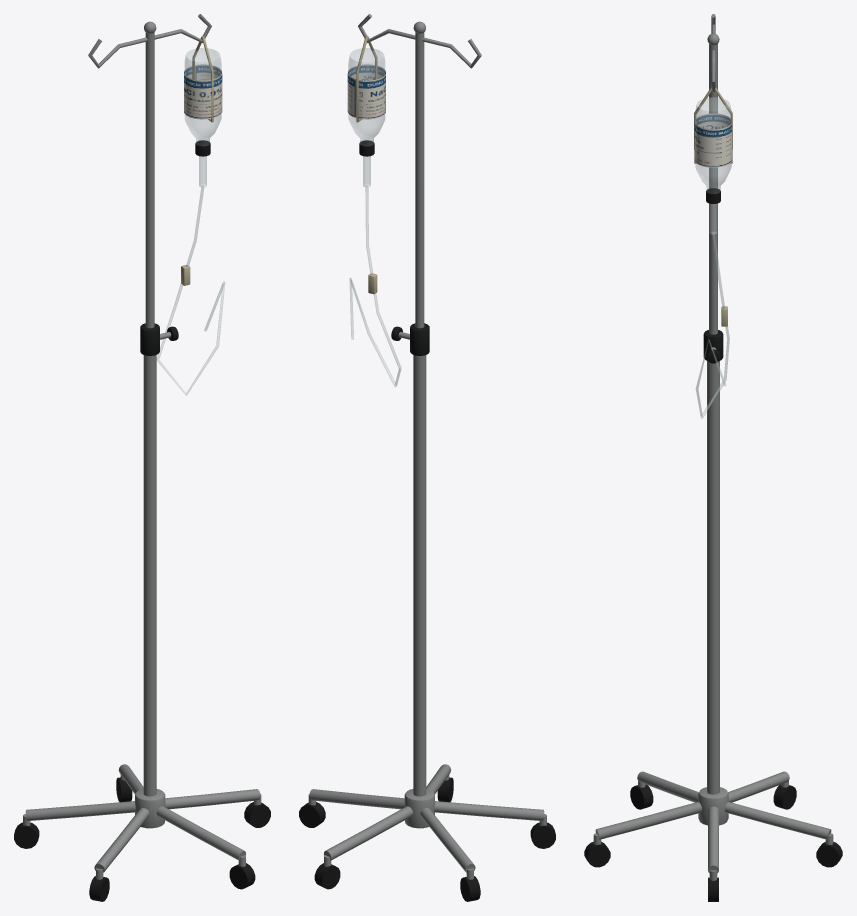
Rendered from CTCC_PROP_IVStand.fbx.
The picture shows the model from 3 angles, left to right: view 1: azimuth 30°, elevation 25°; view 2: azimuth 150°, elevation 25°; view 3: azimuth 270°, elevation 25°; orthographic projection.
Visible parts, largest first — view 1: CTCC_PROP_IVStand_LOD0; view 2: CTCC_PROP_IVStand_LOD0; view 3: CTCC_PROP_IVStand_LOD0.
Boxes of the visible parts, bbox=[...] form: CTCC_PROP_IVStand_LOD0: bbox=[14, 14, 270, 901]; CTCC_PROP_IVStand_LOD0: bbox=[299, 14, 555, 901]; CTCC_PROP_IVStand_LOD0: bbox=[584, 14, 842, 901].
Size of what is drawn, in the model's own units: 0.5233 by 1.92 by 0.5502.
